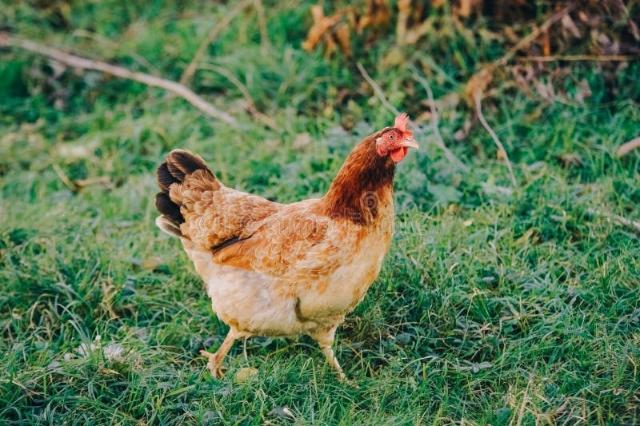Chicken: (154, 111, 420, 383)
